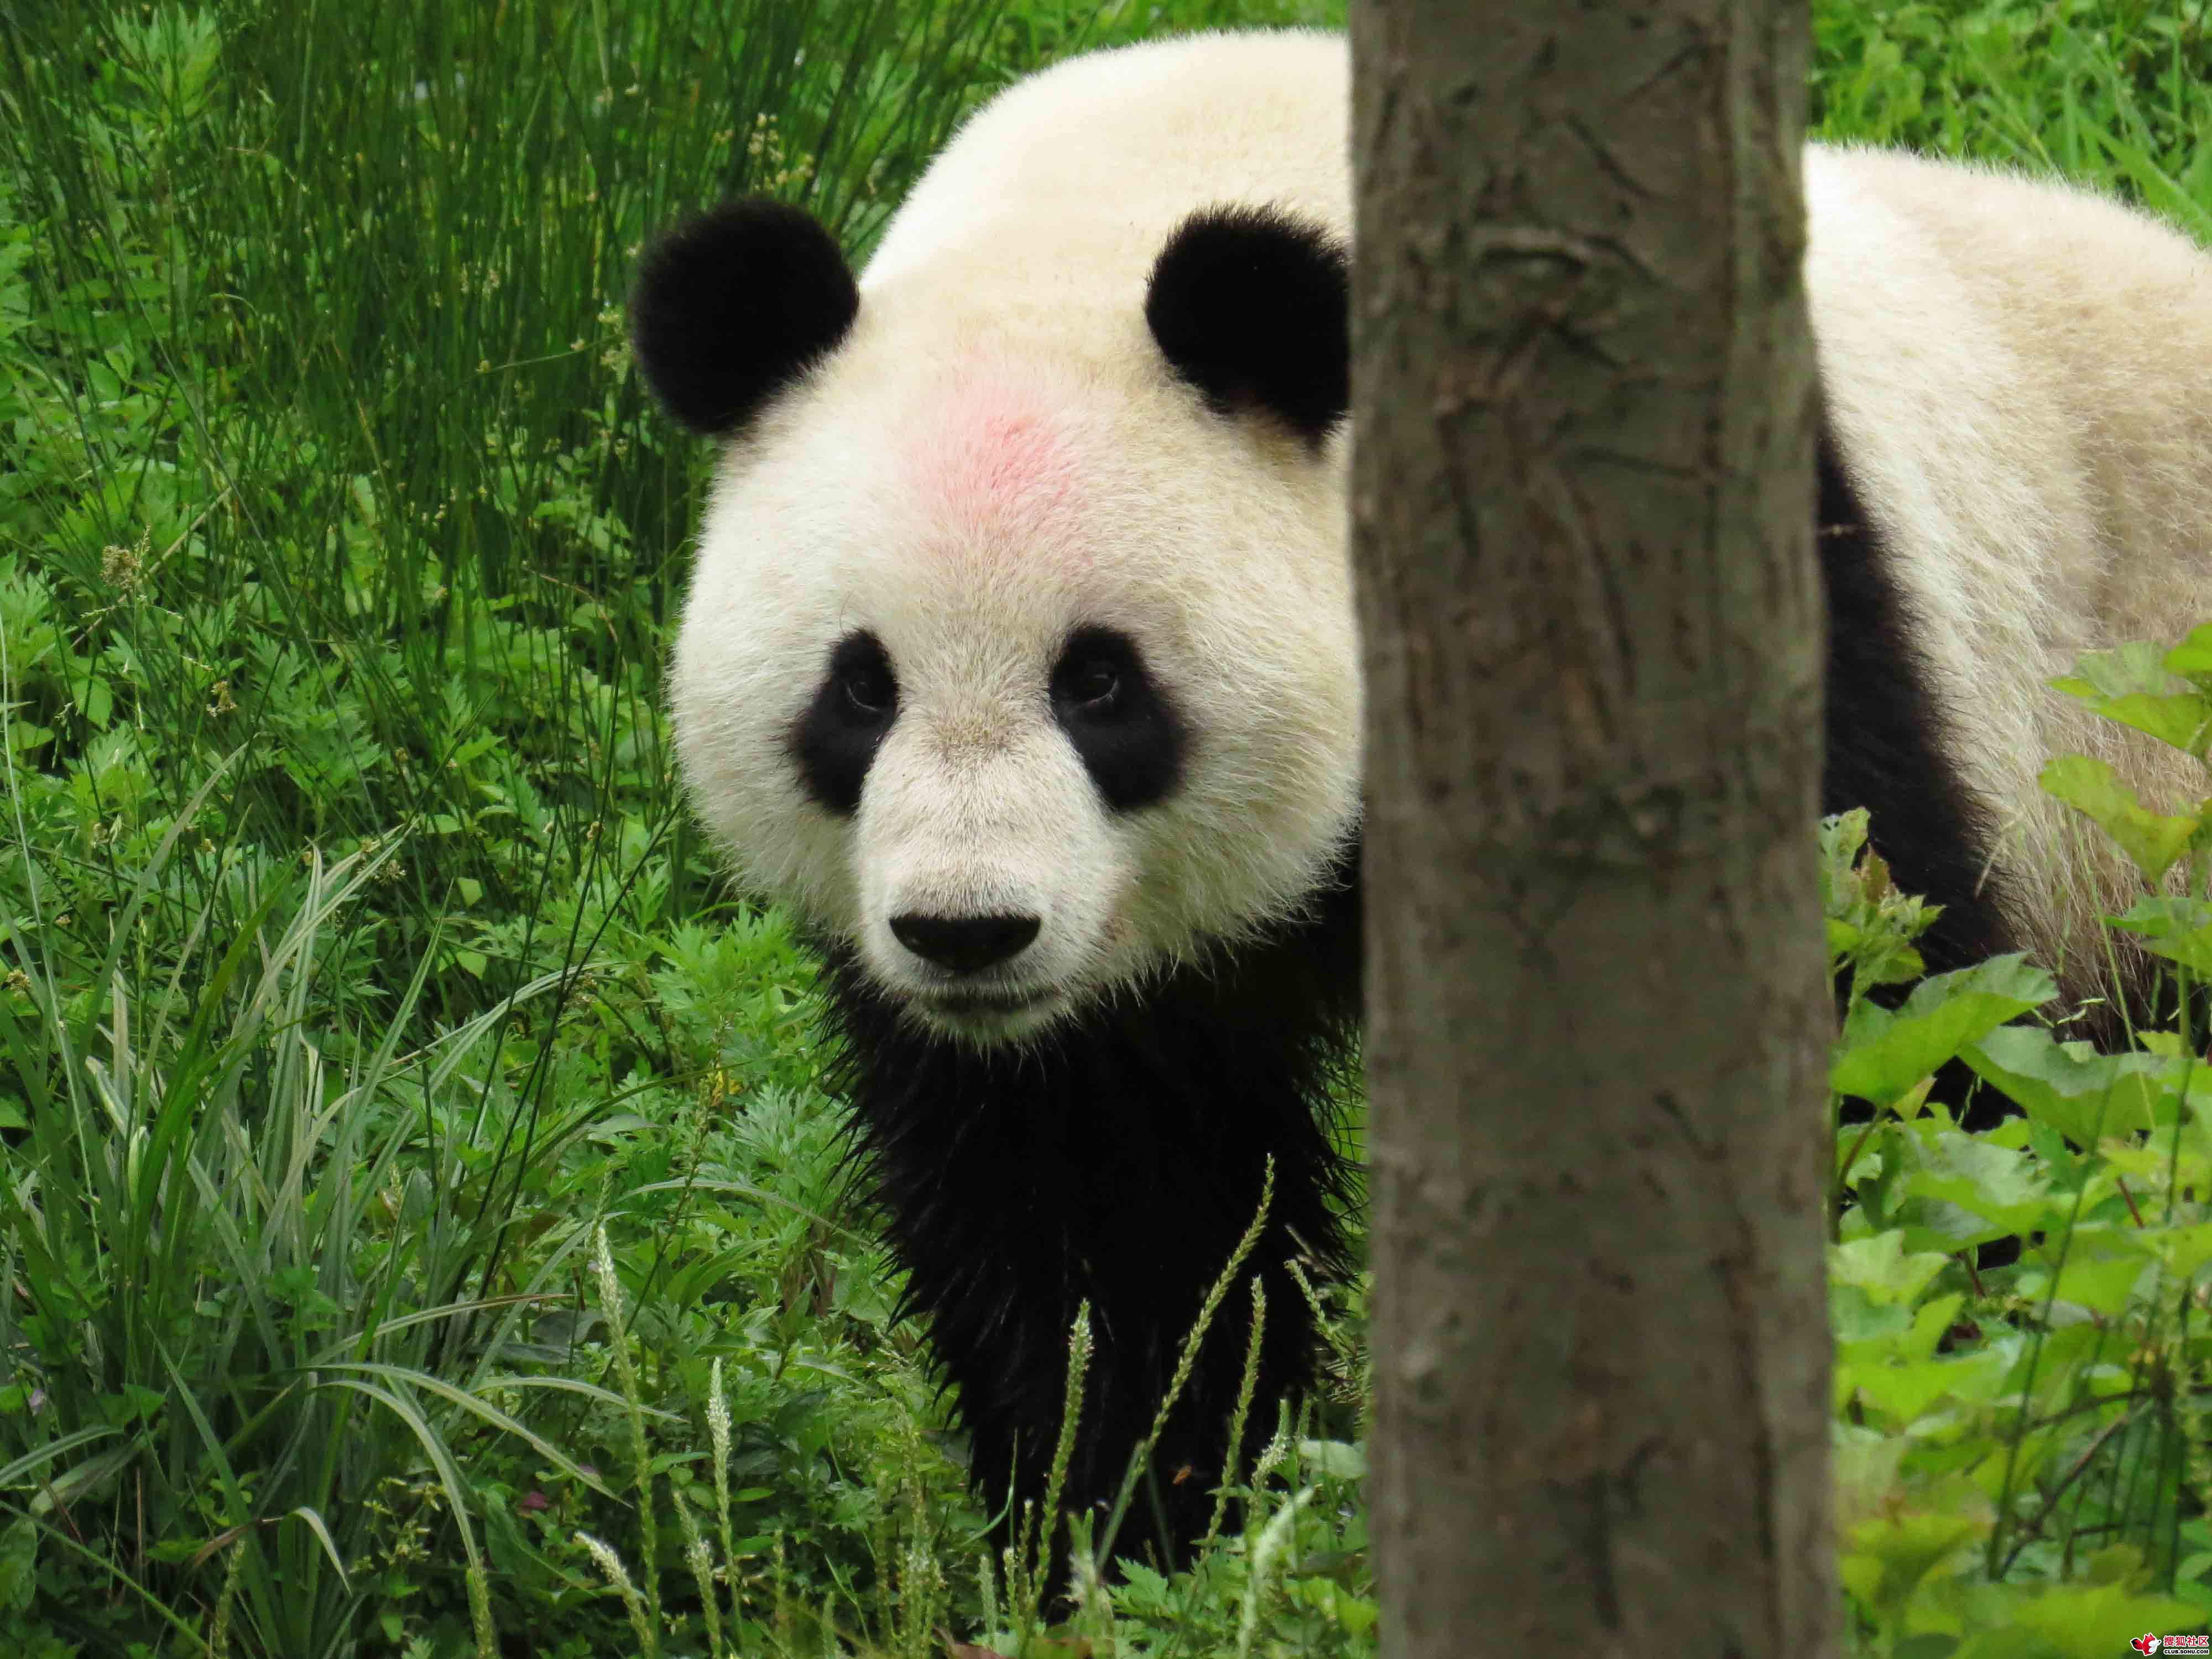panda: (475, 9, 2153, 1473)
